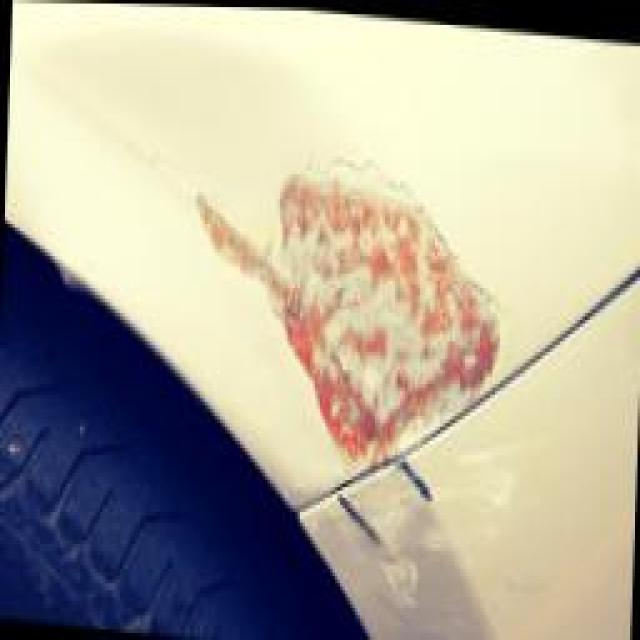Bumper: (305, 391, 622, 640)
Fender: (148, 82, 570, 515)
